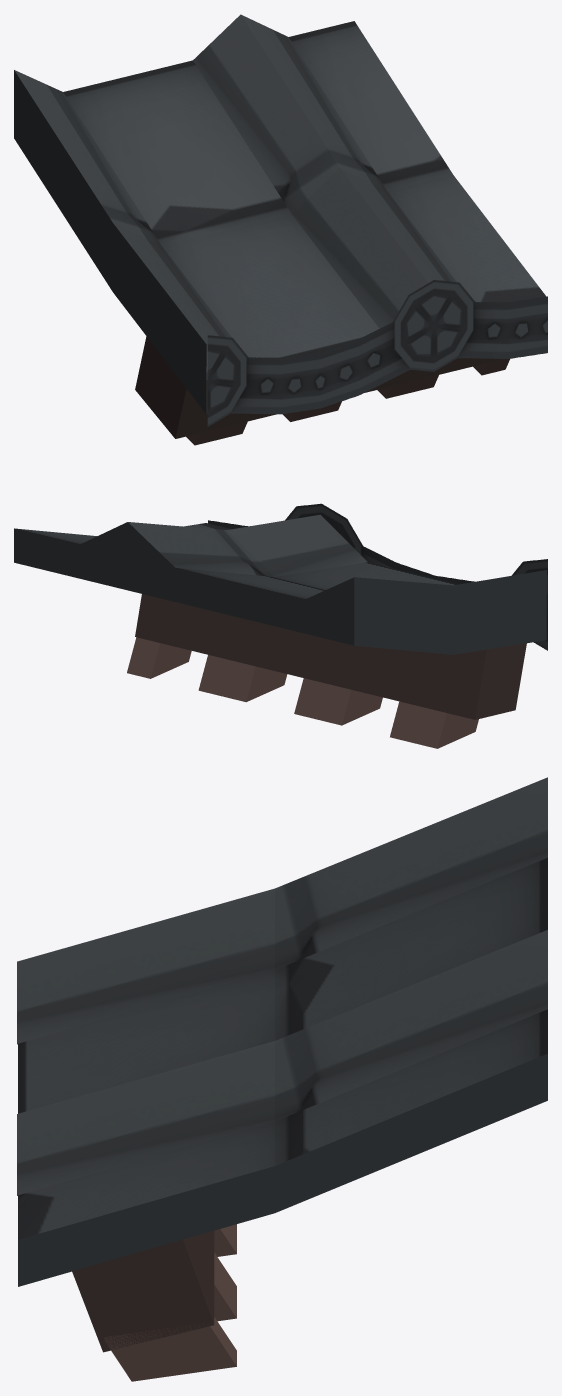
File: SM_Bld_Roof_Edge_Small_Half_01.fbx
3 renders of one model, top to bottom at view 1: azimuth 30°, elevation 25°; view 2: azimuth 150°, elevation 25°; view 3: azimuth 270°, elevation 25°, orthographic. The views are drawn at different scales.
Parts seen in each view (by area): view 1: SM_Bld_Roof_Edge_Small_Half_01; view 2: SM_Bld_Roof_Edge_Small_Half_01; view 3: SM_Bld_Roof_Edge_Small_Half_01.
Boxes of the visible parts, left/top/right/bottom form: SM_Bld_Roof_Edge_Small_Half_01: left=14, top=14, right=547, bottom=445; SM_Bld_Roof_Edge_Small_Half_01: left=14, top=503, right=547, bottom=748; SM_Bld_Roof_Edge_Small_Half_01: left=17, top=777, right=547, bottom=1381.
Size of the model in its own units: 125 by 95.6 by 123.
